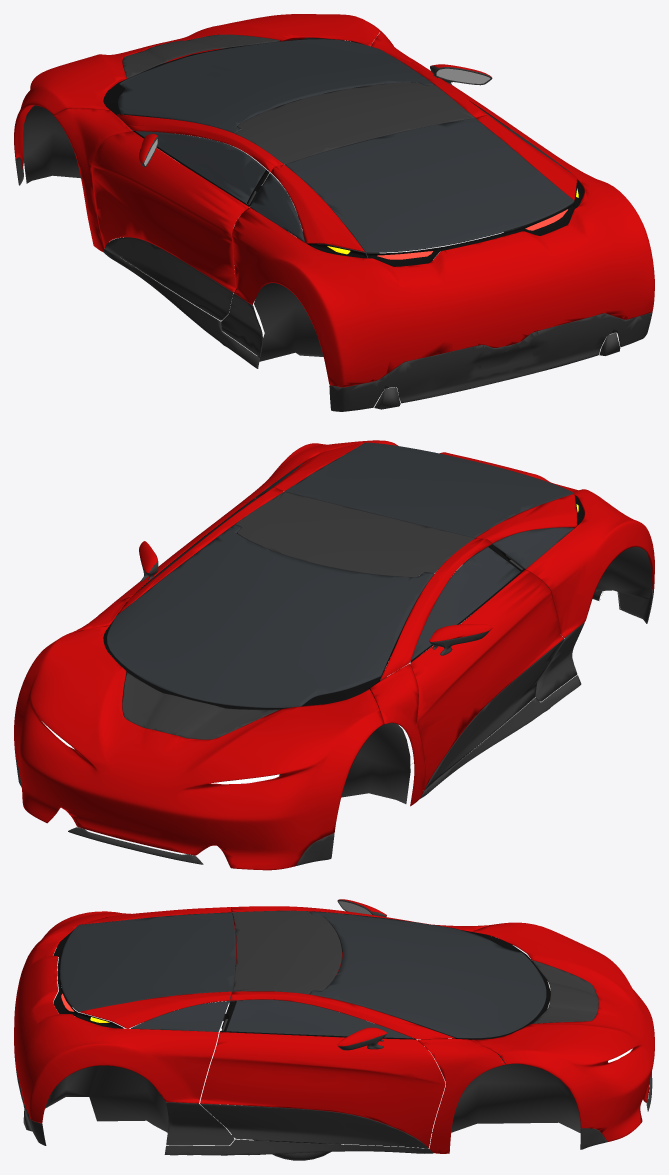
The model's file is car.glb.
3 views of the same model, one above another, from view 1: azimuth 30°, elevation 25°; view 2: azimuth 150°, elevation 25°; view 3: azimuth 270°, elevation 25° (orthographic). The views are drawn at different scales.
Parts seen in each view (by area): view 1: trim, paint; view 2: trim, paint; view 3: trim, paint, wheel.
Boxes of the visible parts, box(x1,y1,x2,y2) form: trim: box(15, 34, 652, 411); paint: box(14, 14, 654, 387); trim: box(15, 442, 653, 865); paint: box(14, 440, 654, 870); trim: box(15, 900, 652, 1155); paint: box(14, 899, 654, 1153); wheel: box(254, 1140, 340, 1160).
Size of the model in its own units: 2.34 by 1.53 by 4.36.
